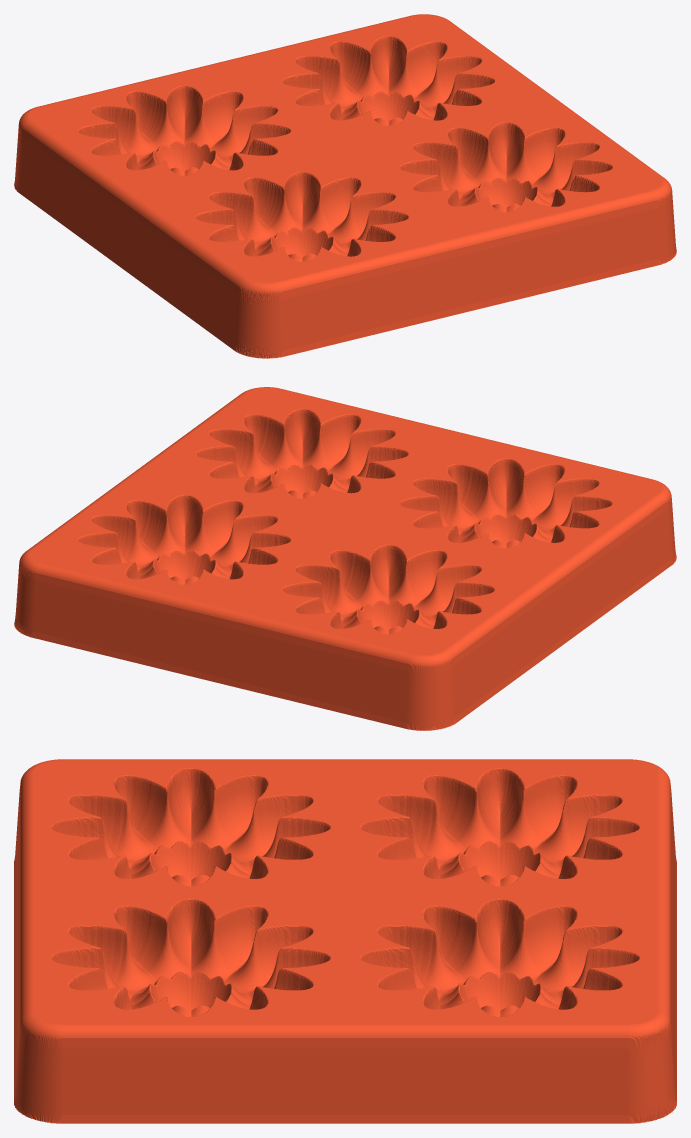
File: mold.glb
The picture shows the model from 3 angles, top to bottom: view 1: azimuth 30°, elevation 25°; view 2: azimuth 150°, elevation 25°; view 3: azimuth 270°, elevation 25°; orthographic projection. The views are drawn at different scales.
Parts seen in each view (by area): view 1: geometry_0; view 2: geometry_0; view 3: geometry_0.
Part boxes in pixels (<box>): geometry_0: <box>14,14,676,358</box>; geometry_0: <box>14,387,676,730</box>; geometry_0: <box>14,759,676,1123</box>.
Size of the model in its own units: 0.1218 by 0.0185 by 0.1218.
